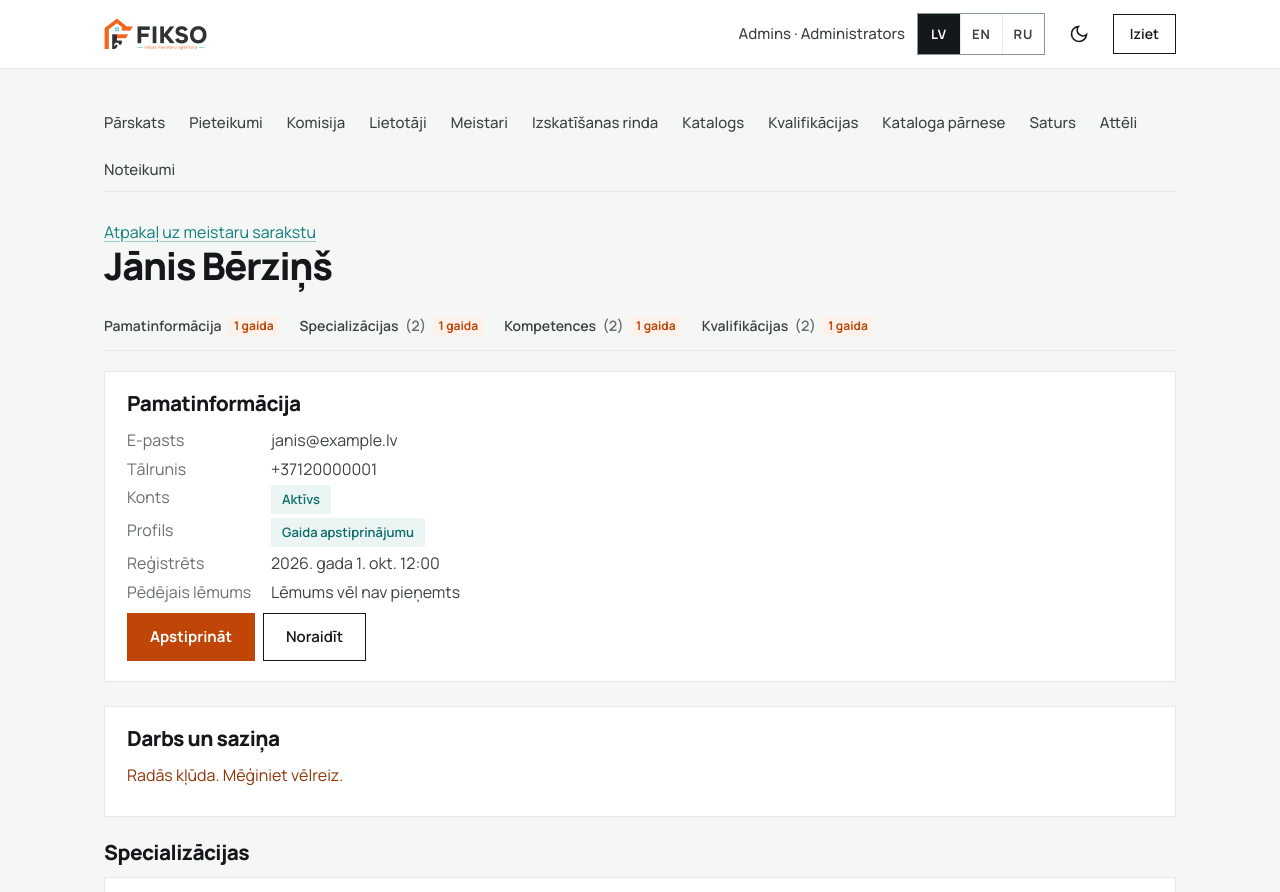
Scenario: master card: decisions › profile reject asks for a reason and a confirmation
This screenshot has width=1280, height=892.
Click the button with aria-label "Noraidīt: Jānis Bērziņš" at (315, 637), box [263, 613, 366, 661]
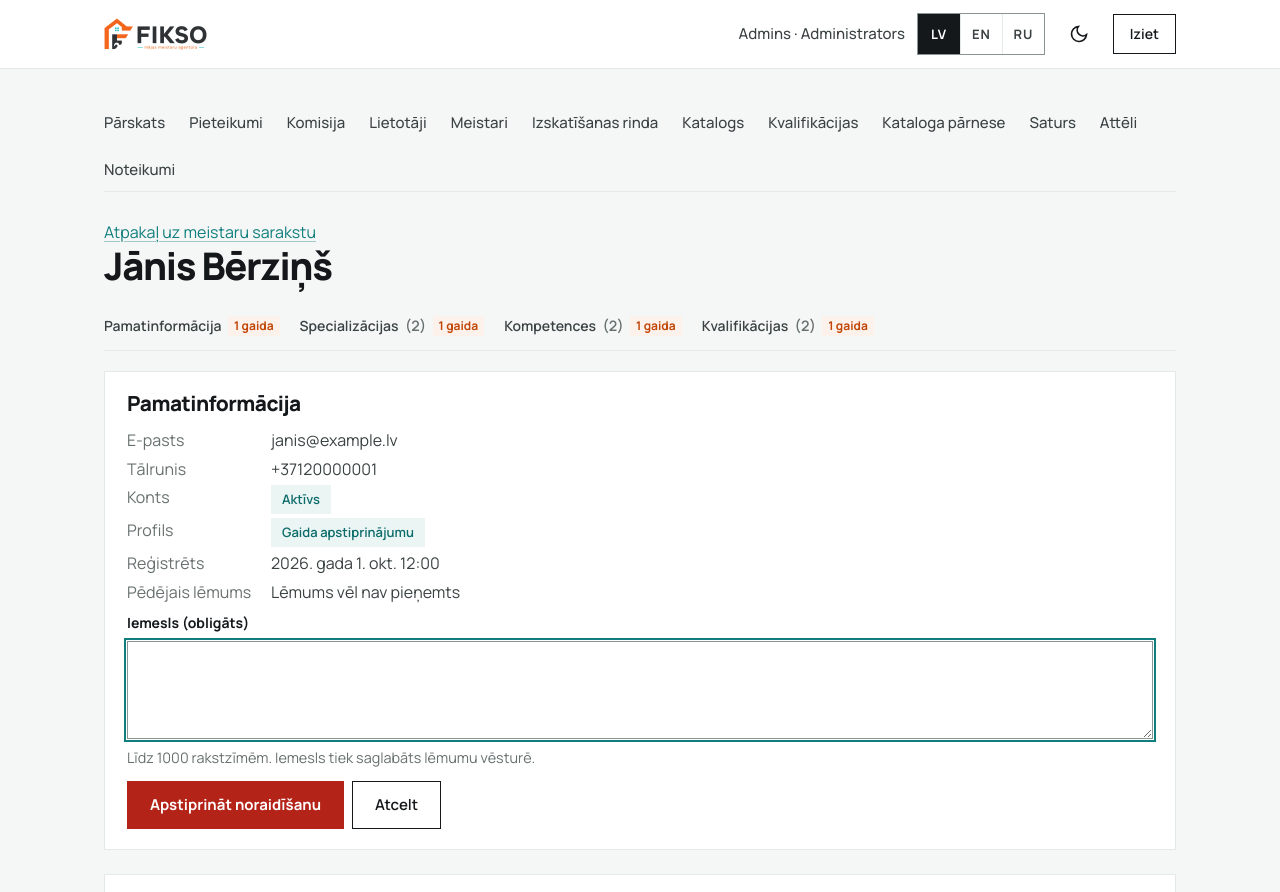
Type "  Dokuments neatbilst  " into the text box labelled "Iemesls (obligāts)" at (640, 690), box [127, 640, 1153, 738]
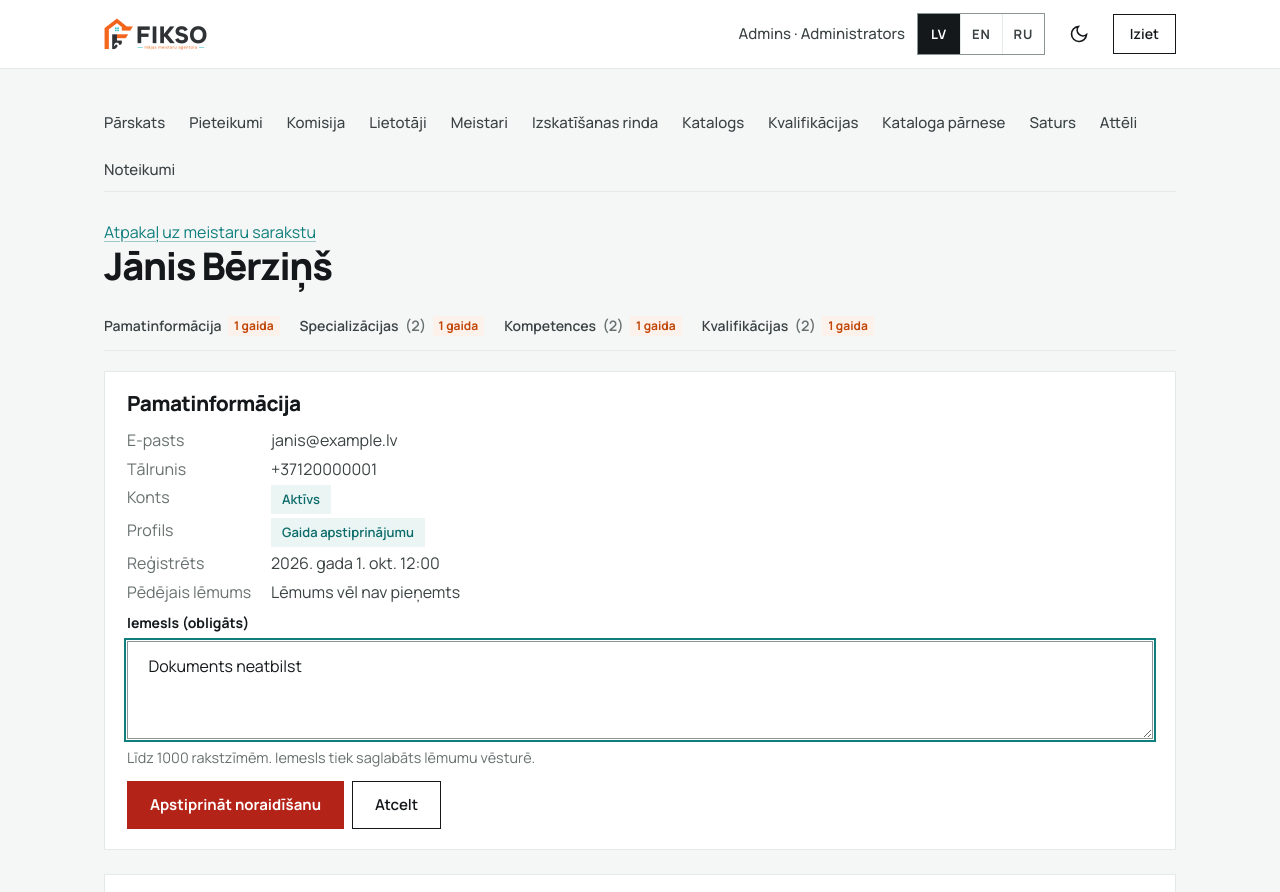
Click the button "Apstiprināt noraidīšanu" at (236, 805), box [127, 781, 344, 829]
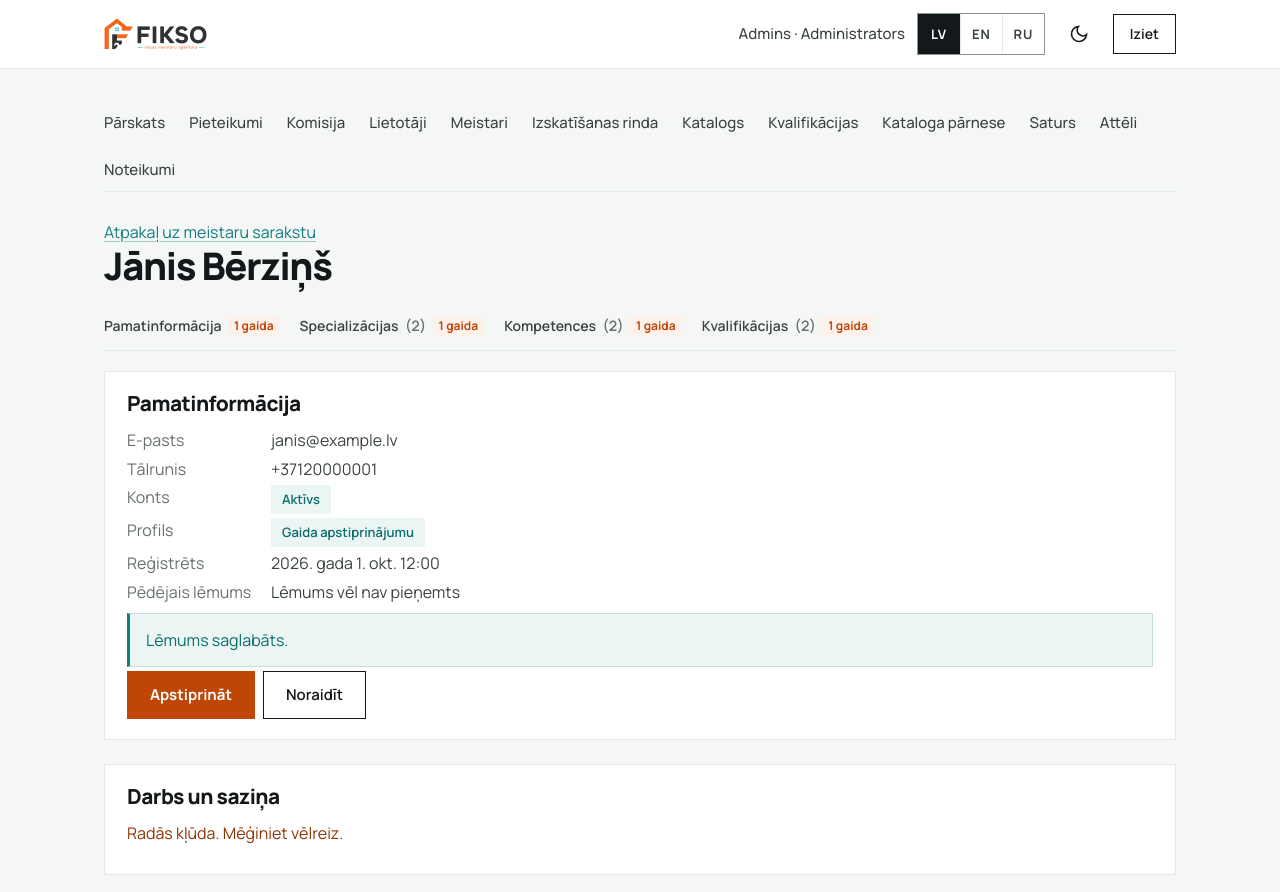
Check: the text "Lēmums saglabāts." is shown, box [127, 613, 1153, 667]
Check: the label labelled "Iemesls (obligāts)" is gone
